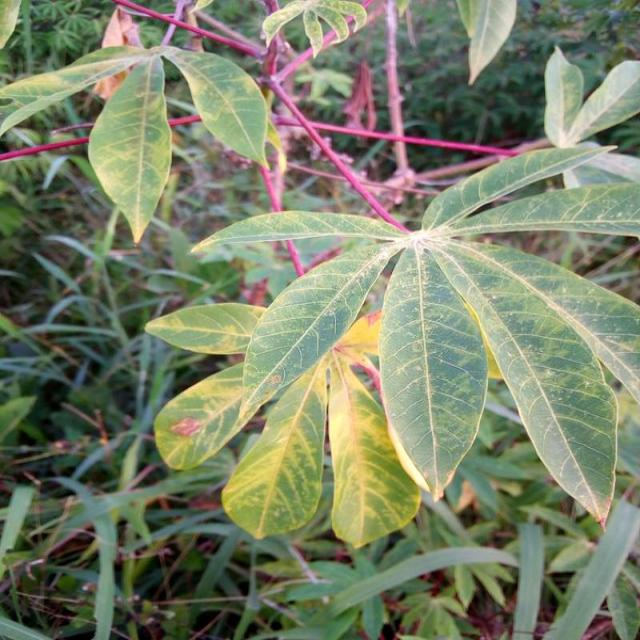cassava leaf: (146, 46, 638, 546), (377, 241, 488, 501), (220, 367, 326, 540), (86, 54, 172, 244), (158, 44, 269, 170)
